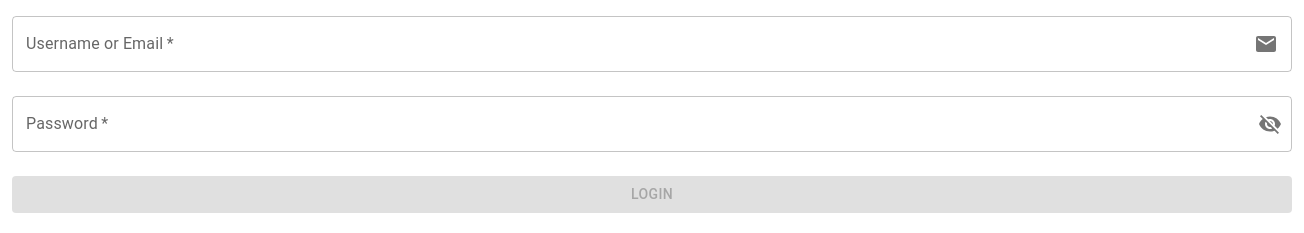
Test: Login integration – user flow › user can successfully log in with valid credentials
The width and height of the screenshot is (1304, 233).
Note: Fill in credentials
Type "testuser" into the field labelled "Username or Email *" at (629, 44), box [12,16,1246,72]
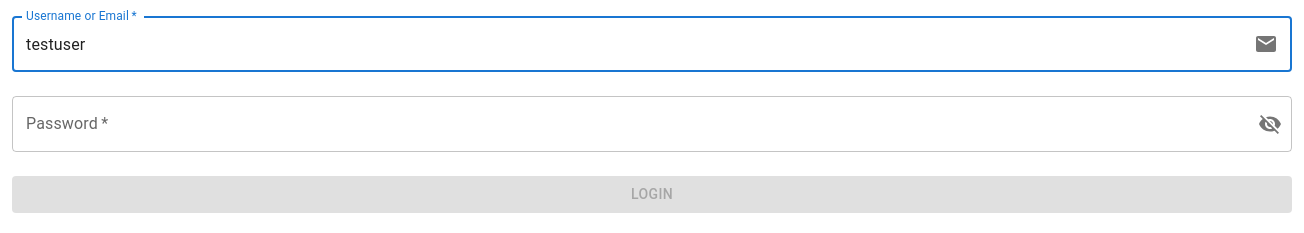
Type "password123" into the password field labelled "Password *" at (627, 124), box [12,96,1242,152]
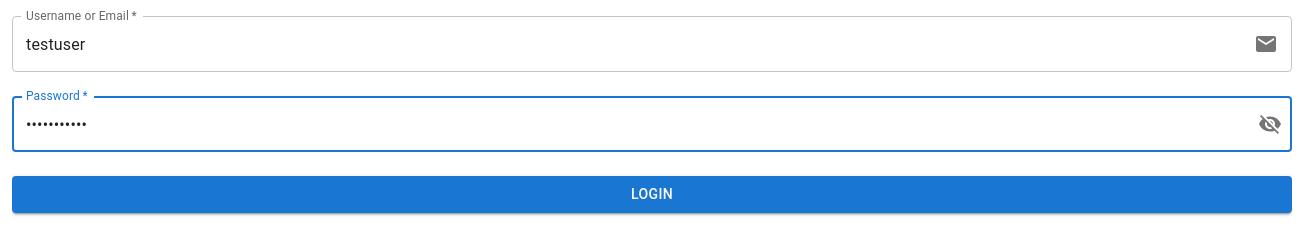
Note: Submit form
Click the button "Login" at (652, 194), box [12,176,1292,212]
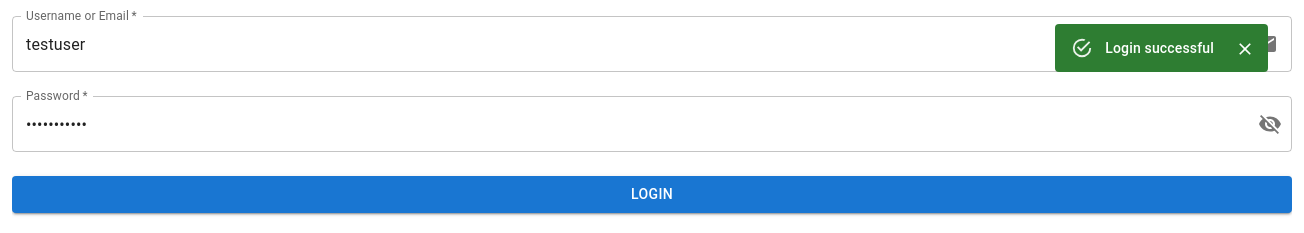
Check: the text "Login successful" is shown, box [1105,40,1214,56]
